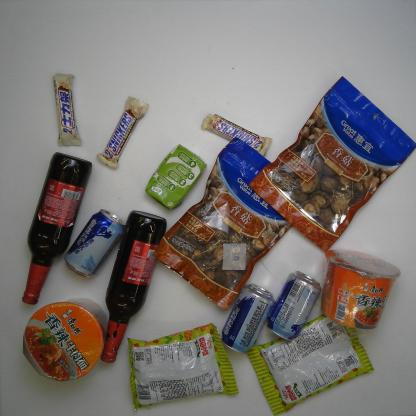Alcohol: (19, 152, 93, 305), (100, 210, 171, 364), (63, 208, 127, 280), (221, 282, 274, 354), (268, 270, 322, 340)
Chocolate: (96, 93, 152, 169), (202, 111, 272, 157), (51, 71, 83, 149)
Dried Food: (246, 74, 414, 256), (154, 137, 293, 309)
Instant Noodles: (22, 297, 104, 385), (320, 244, 401, 331)
Milk: (144, 143, 206, 212)
Puffed Food: (247, 315, 373, 412), (127, 324, 238, 408)
